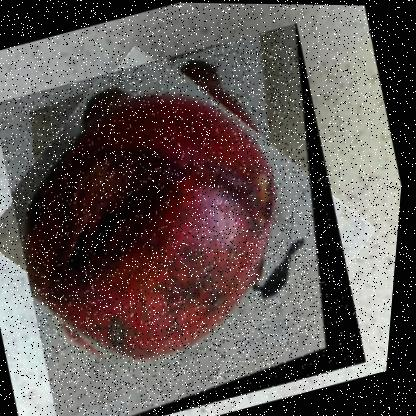pomegranate_rotten: (0, 18, 395, 415)
